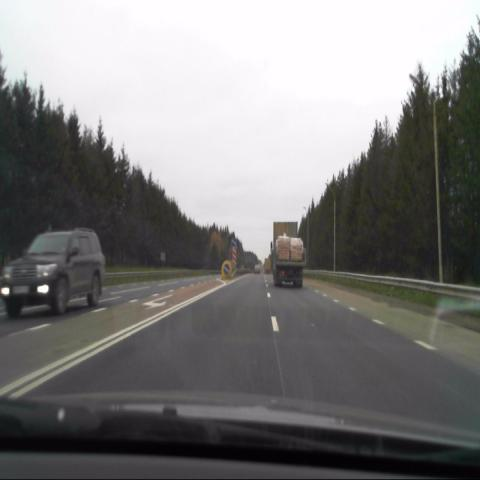4_2_1: (223, 262, 230, 275), (230, 235, 237, 247)
